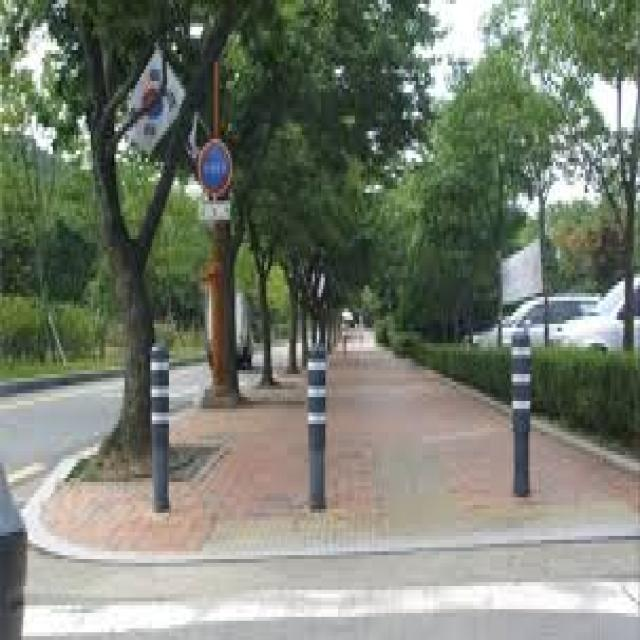bollard: (145, 335, 175, 511), (507, 328, 537, 504), (303, 336, 328, 514)
